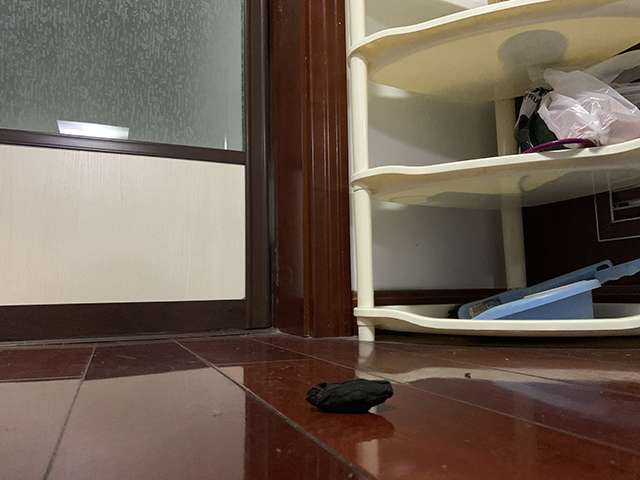feces: (305, 377, 396, 414)
